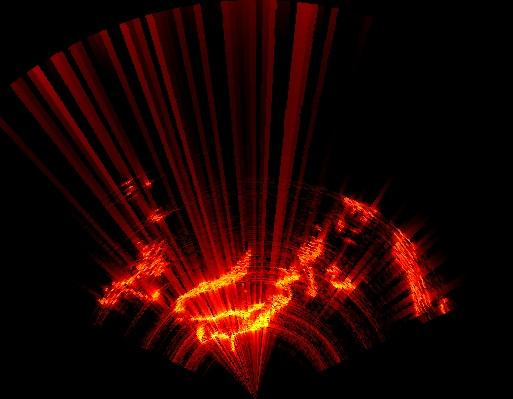shipwreck: (192, 237, 324, 350), (173, 250, 250, 311), (99, 243, 167, 306), (392, 232, 430, 314), (328, 264, 356, 292)
